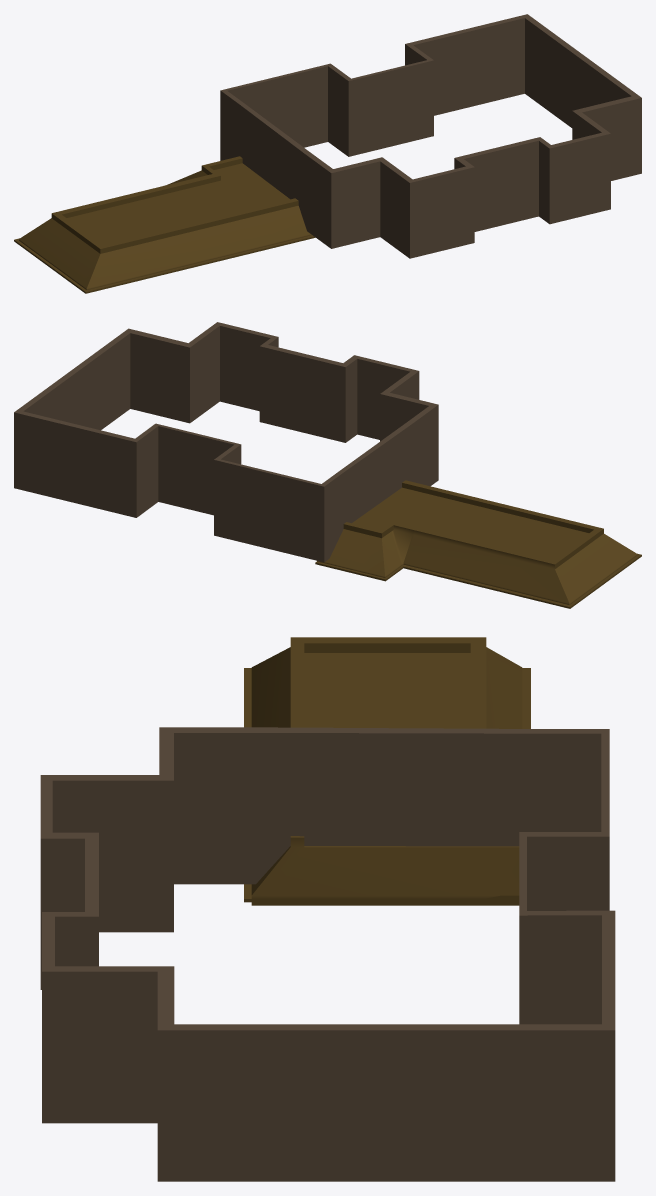
The model's file is MansionTopFloorAndRoof.fbx.
3 views of the same model, one above another, from view 1: azimuth 30°, elevation 25°; view 2: azimuth 150°, elevation 25°; view 3: azimuth 270°, elevation 25° (orthographic). The views are drawn at different scales.
Parts seen in each view (by area): view 1: Floor_2, GarageRoof; view 2: Floor_2, GarageRoof; view 3: Floor_2, GarageRoof.
Part boxes in pixels (x1,y1,x2,y2): Floor_2: (220,14,641,258); GarageRoof: (14,156,315,293); Floor_2: (14,322,438,562); GarageRoof: (315,480,641,608); Floor_2: (40,727,615,1181); GarageRoof: (244,637,530,905).
Bounding box in the file's own units: 442 × 65.54 × 206.
